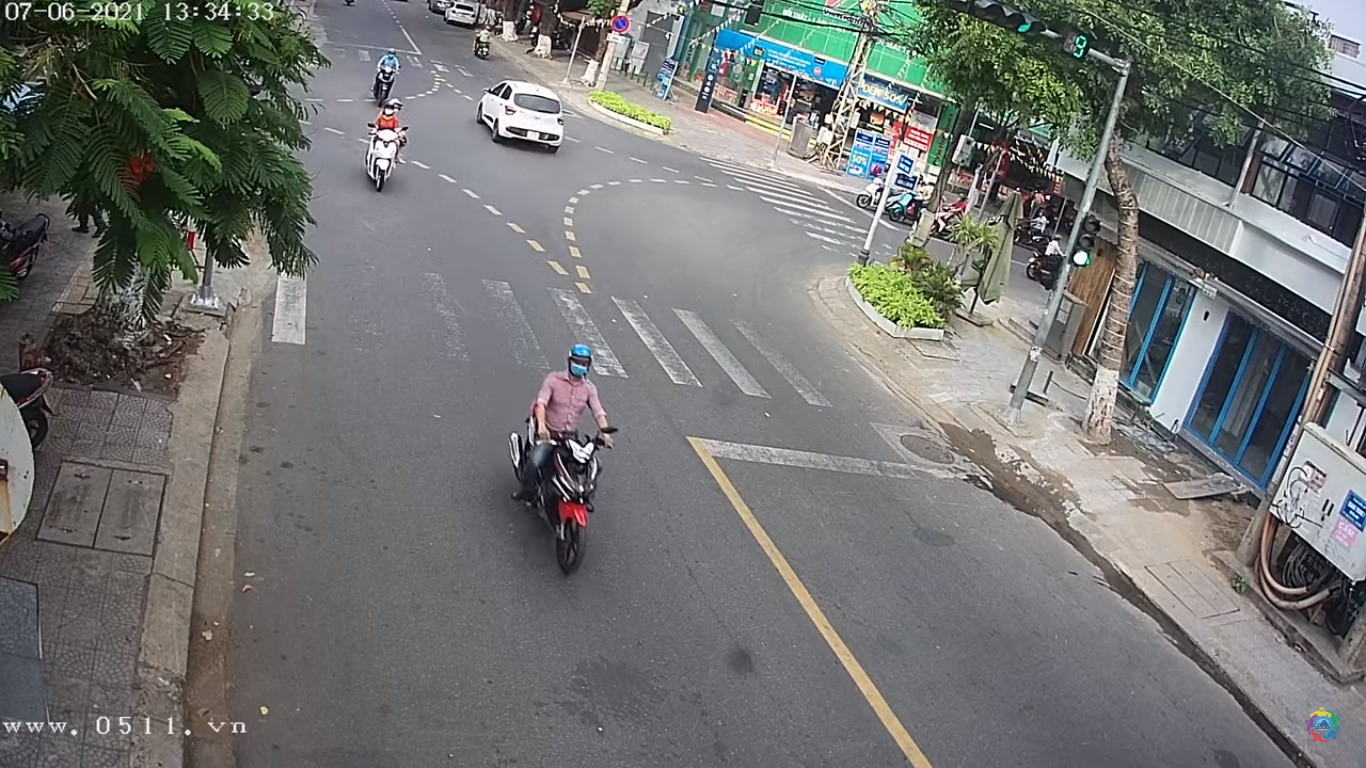motorbike: (514, 359, 618, 569), (360, 107, 411, 192)
